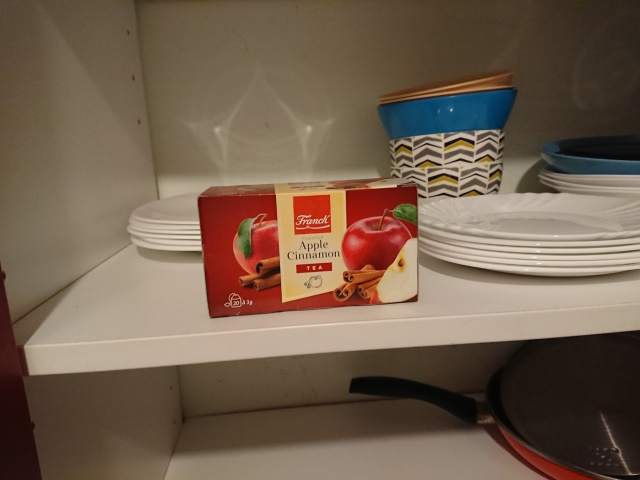Franck Apple Cinnamon Tea 60g: (194, 174, 422, 321)
